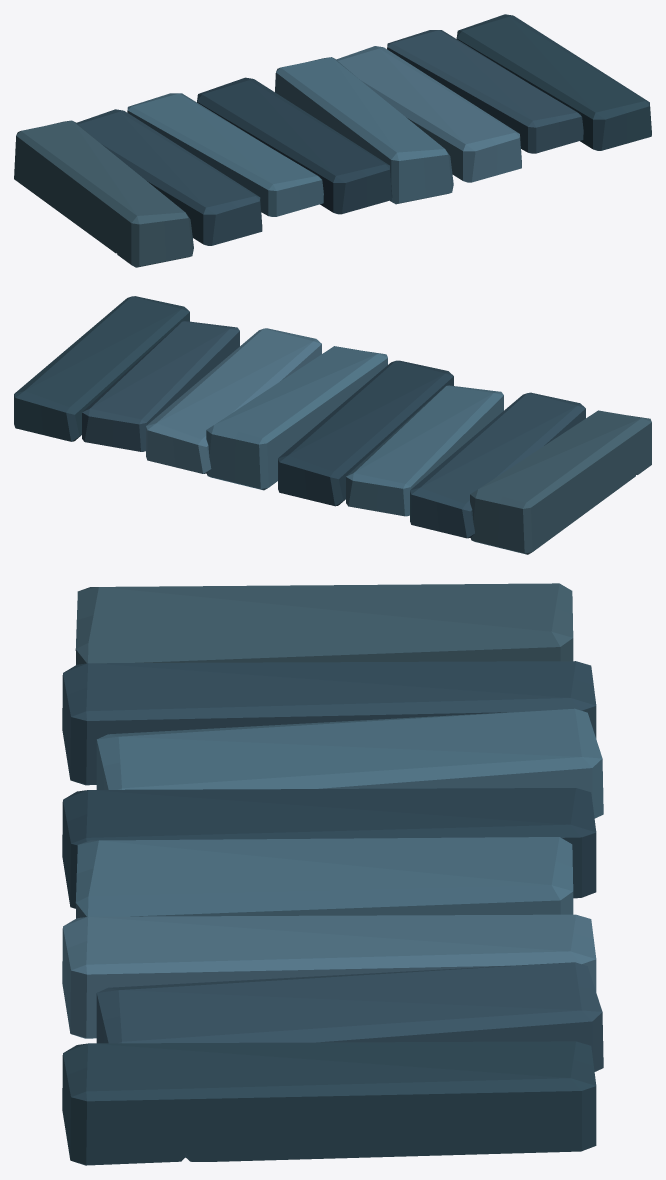
Rendered from floor.fbx.
3 views of the same model, one above another, from view 1: azimuth 30°, elevation 25°; view 2: azimuth 150°, elevation 25°; view 3: azimuth 270°, elevation 25° (orthographic). The views are drawn at different scales.
Parts seen in each view (by area): view 1: stone-brick04.002; view 2: stone-brick04.002; view 3: stone-brick04.002.
Boxes of the visible parts, x1,y1,x2,y2 form: stone-brick04.002: [14, 14, 651, 267]; stone-brick04.002: [14, 296, 651, 554]; stone-brick04.002: [62, 583, 603, 1165].
Bounding box in the file's own units: 1224 × 119 × 552.
